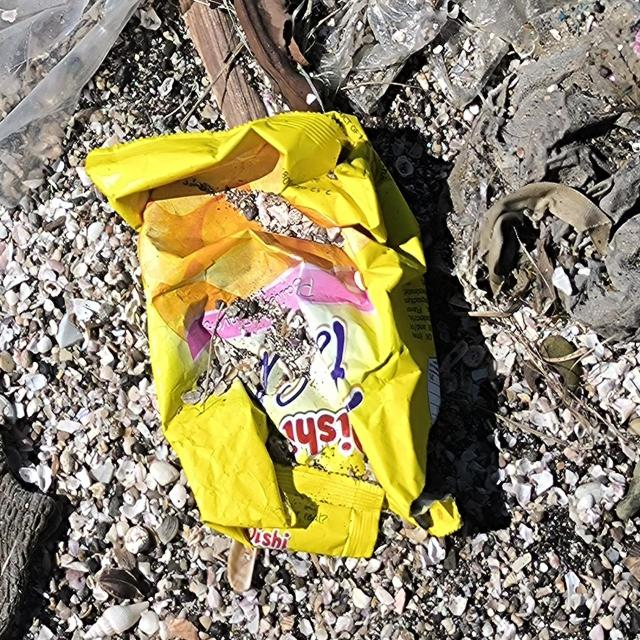plastic_waste: (85, 111, 446, 563)
